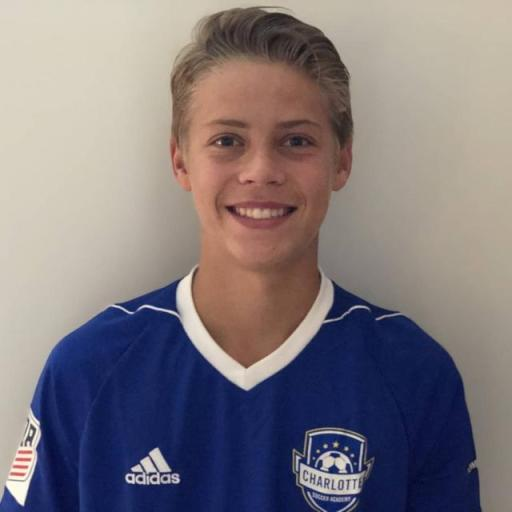Adidas: (122, 444, 182, 488)
